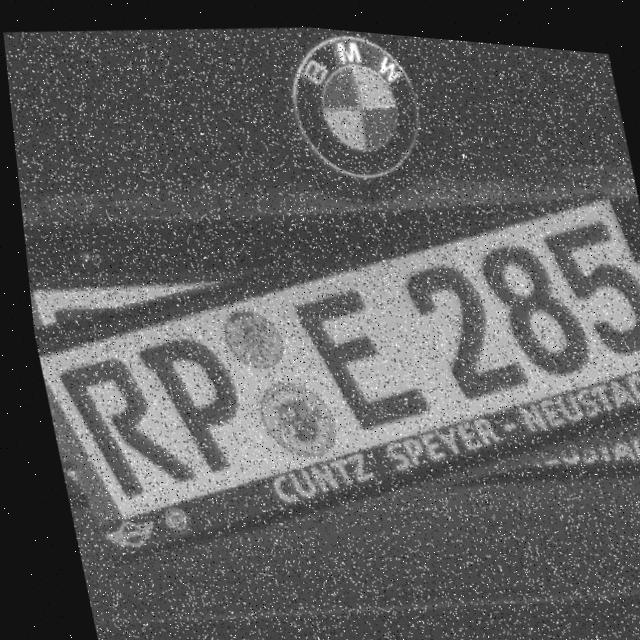LicensePlate: (13, 163, 640, 577)
